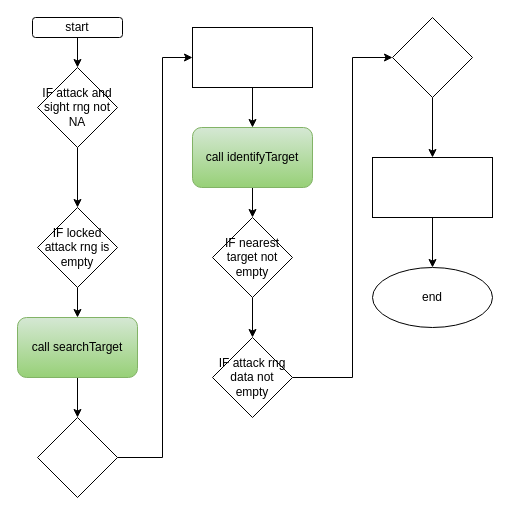
Some shapes in this 510 by 515 pixel diagram are drawn without their labels. Each missing label, with the centre of its shape:
construct truck identify filter list object: point (252, 57)
IF sight rng not empty: point (77, 457)
IF truck doesnot lock any target: point (432, 57)
set the sight and attack range target and stop search: point (432, 187)
